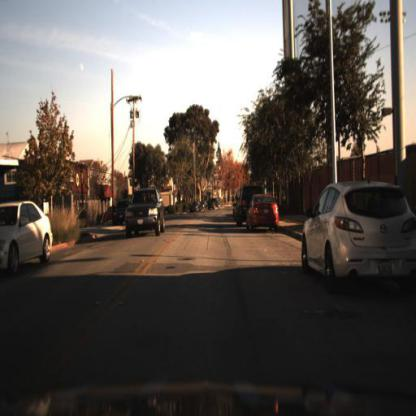car: (297, 178, 414, 297), (1, 203, 55, 278), (121, 179, 169, 241), (126, 186, 166, 239), (244, 191, 283, 234), (236, 188, 249, 228)
